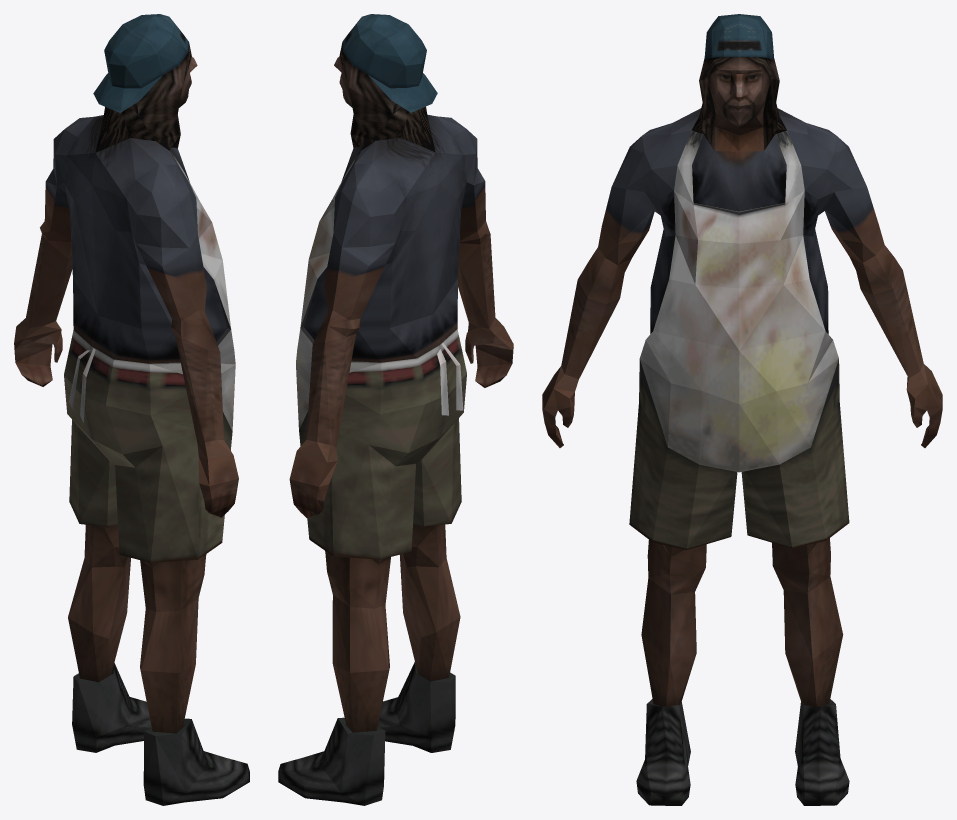
Rendered from bmochil.obj.
3 views of the same model, side by side, from view 1: azimuth 30°, elevation 25°; view 2: azimuth 150°, elevation 25°; view 3: azimuth 270°, elevation 25° (orthographic). The views are drawn at different scales.
Visible parts, largest first — view 1: _Pelvis; view 2: _Pelvis; view 3: _Pelvis.
Part boxes in pixels (bbox=[...]): _Pelvis: bbox=[14, 14, 249, 805]; _Pelvis: bbox=[278, 14, 513, 805]; _Pelvis: bbox=[542, 14, 942, 805].
Size of the model in its own units: 0.3807 by 1.84 by 0.8698.
1 material, 1 textured.
